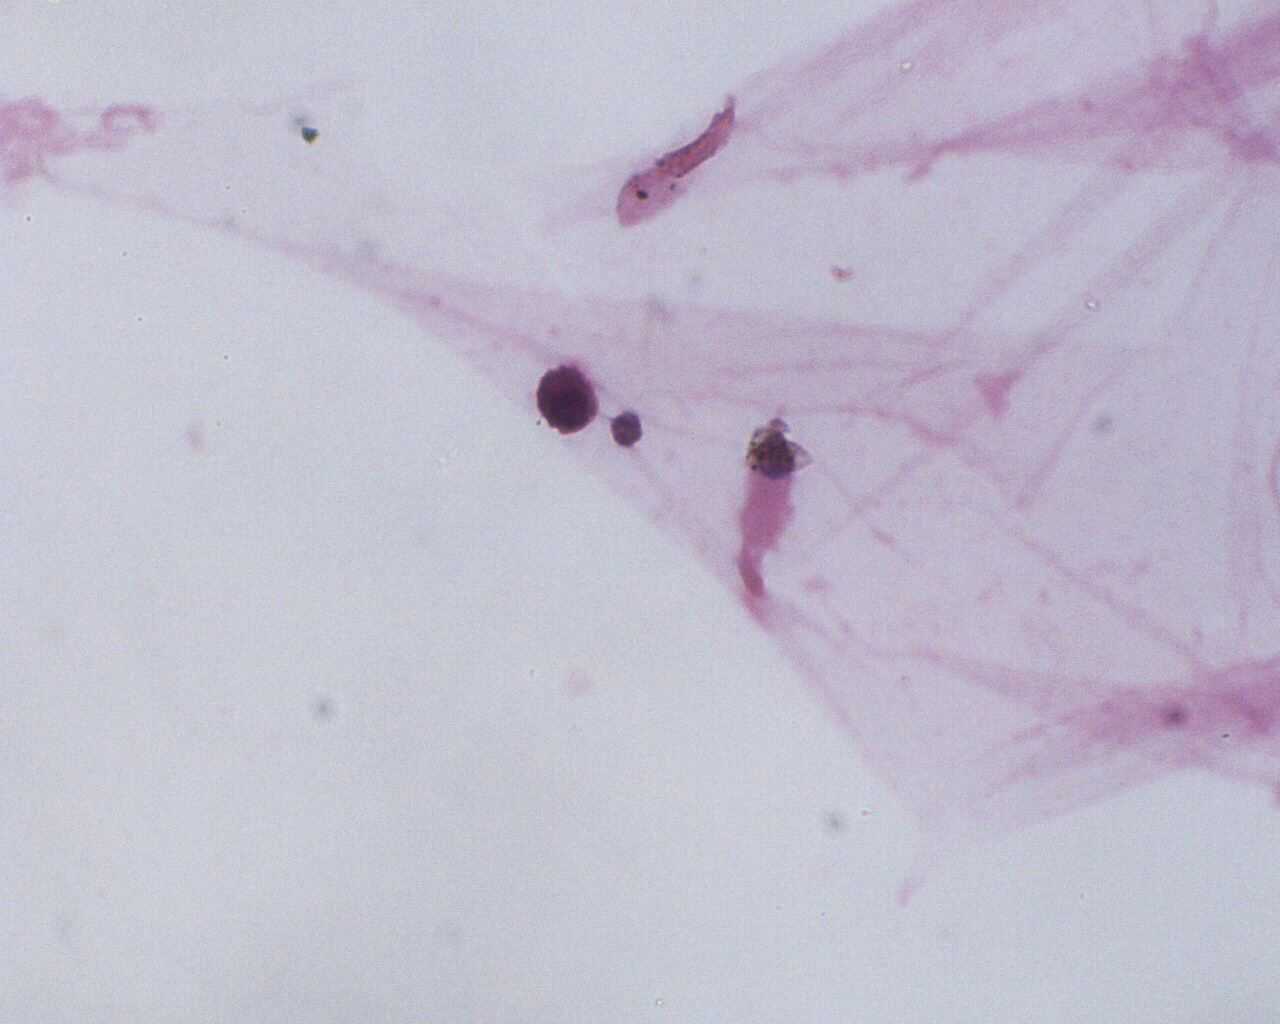meso: (531, 358, 602, 443)
